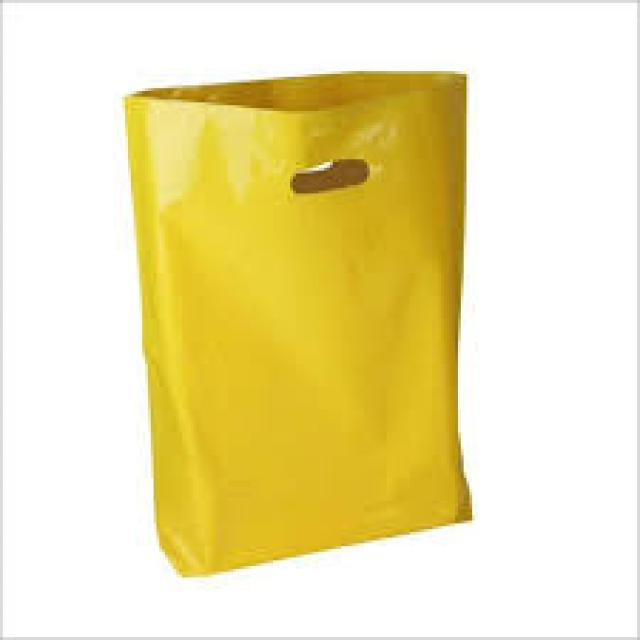Dry: (68, 51, 560, 569)
